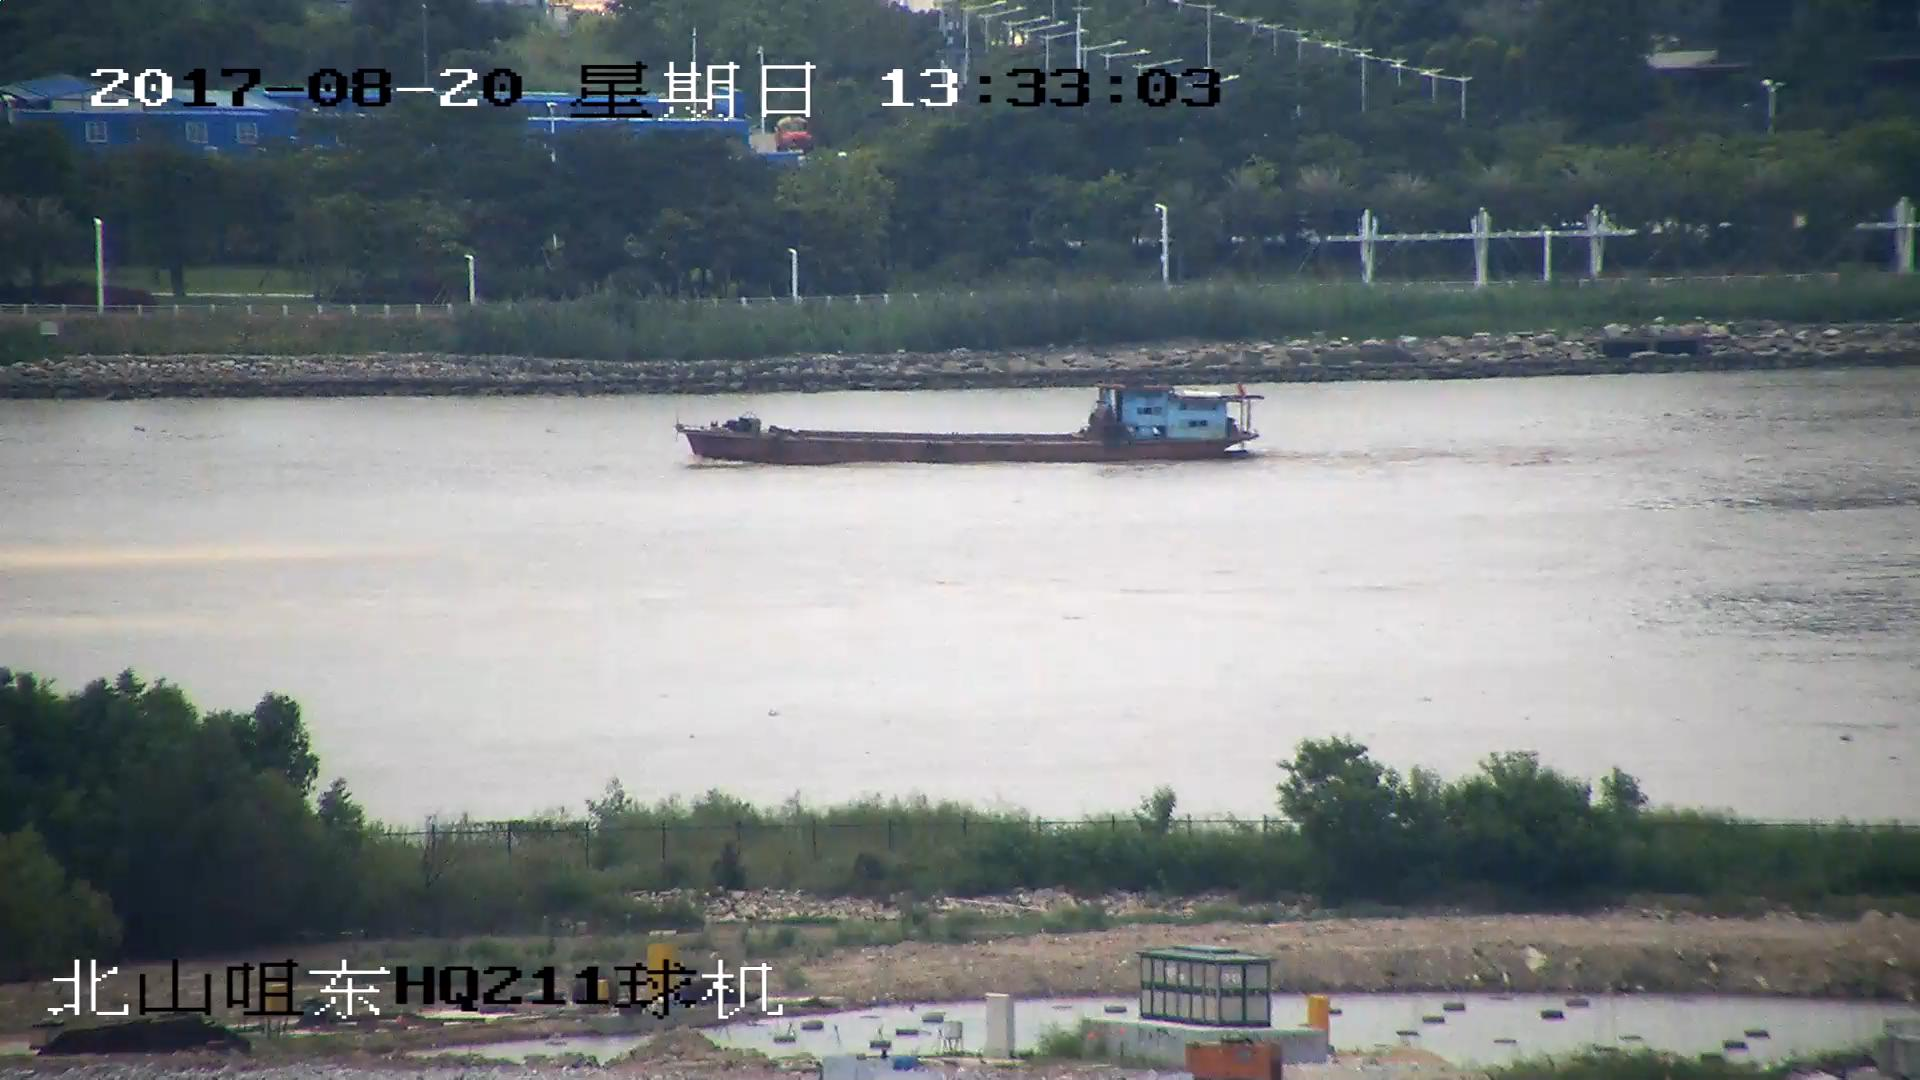bulk cargo carrier: (674, 377, 1261, 462)
